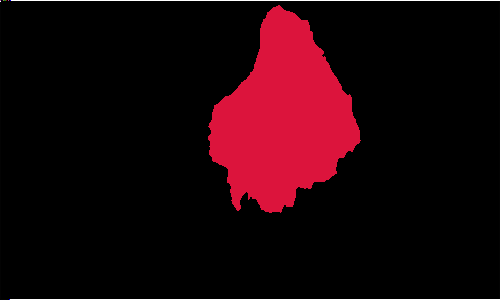toy: (211, 3, 371, 227)
